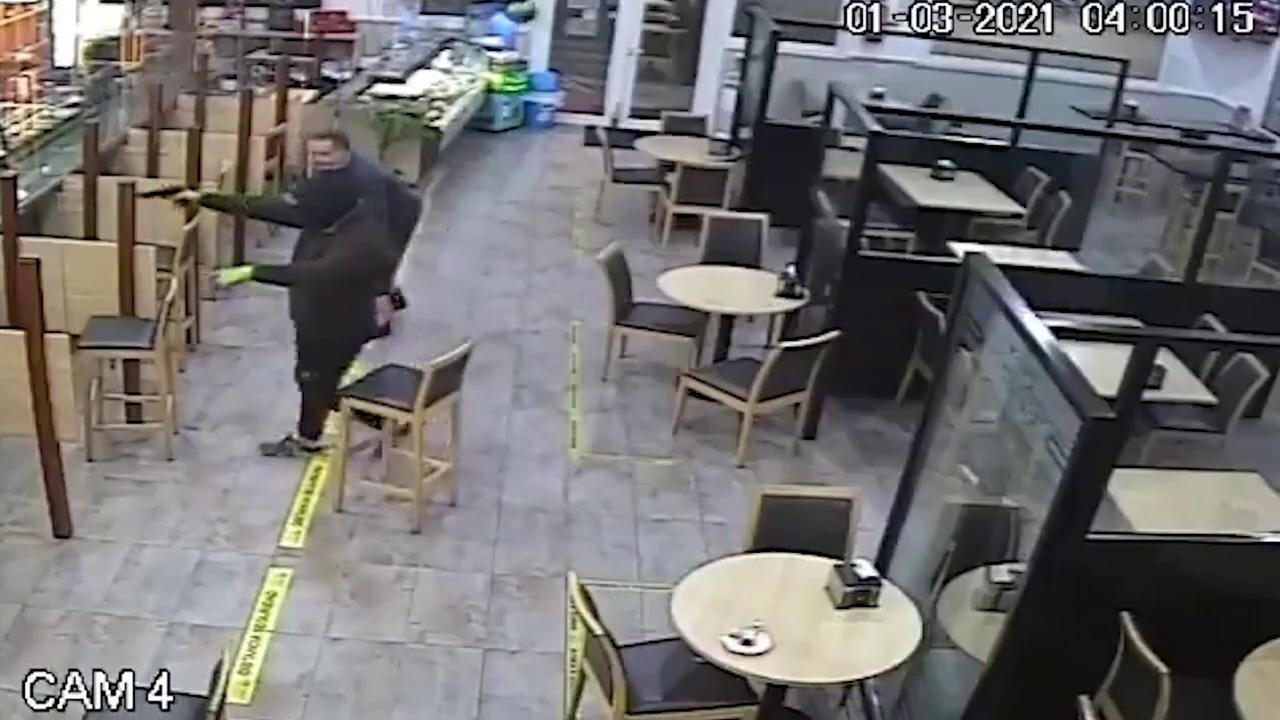Guns perspective: (114, 165, 216, 227)
